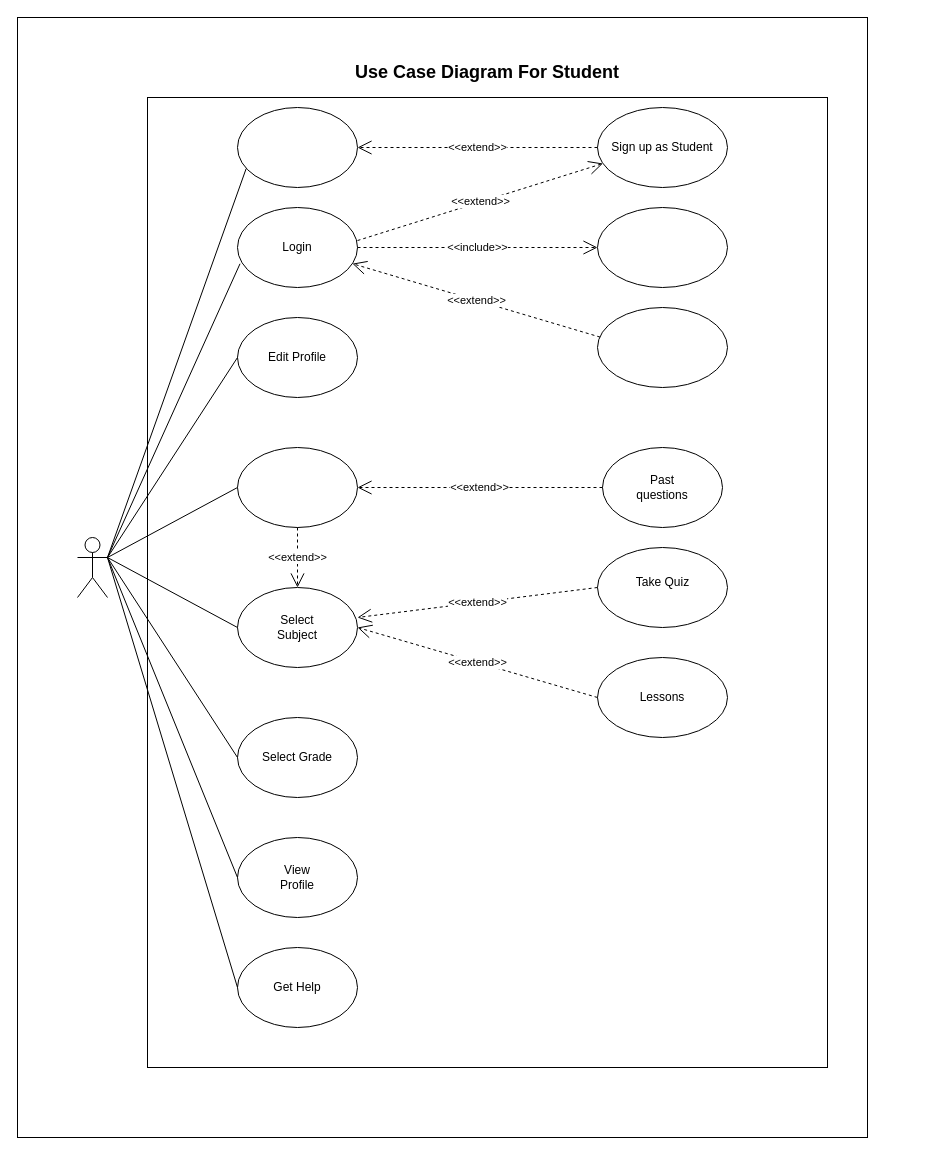
Some shapes in this 930 by 1155 pixel diagram are drawn without their labels. Each missing label, with the centre of its shape:
"Access Forum" belongs at (297,487).
"Forgot Password" belongs at (662,347).
"Sign up" belongs at (297,147).
"Student" belongs at (92,567).
"Verify Password" belongs at (662,247).
